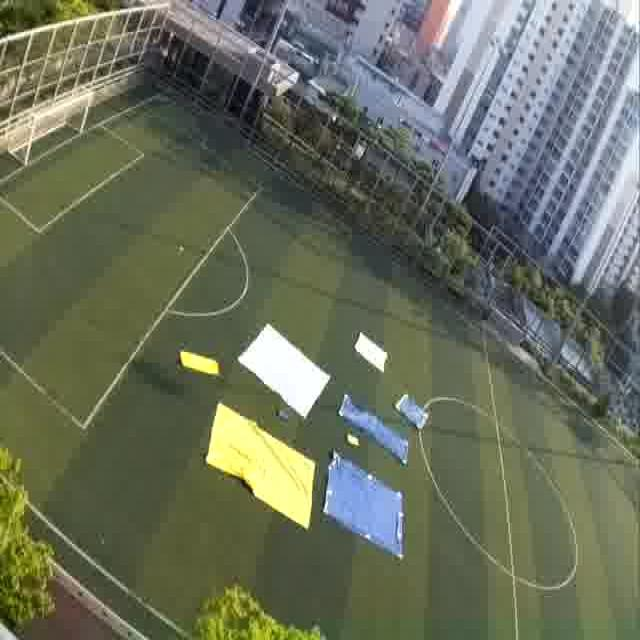danger: (333, 465, 403, 550), (336, 394, 381, 434), (398, 393, 426, 432)
safety: (251, 349, 325, 415), (352, 330, 394, 381)
warning: (218, 428, 300, 499), (182, 357, 218, 374)
